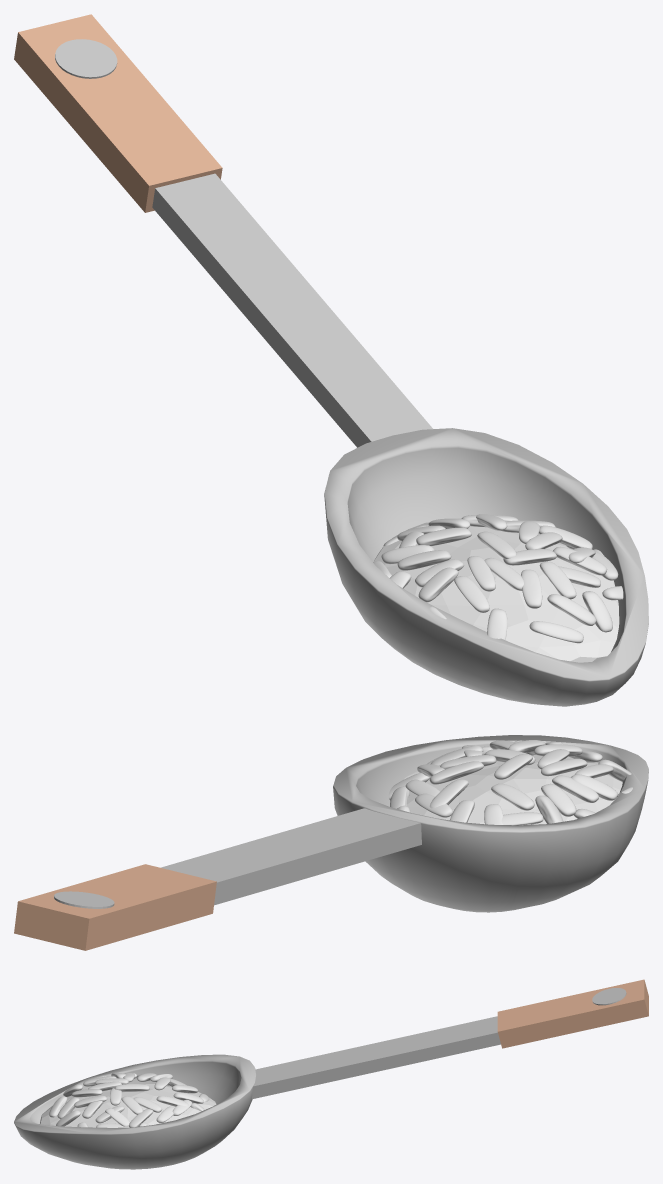
File: coconutspoon.fbx
3 renders of one model, top to bottom at view 1: azimuth 30°, elevation 25°; view 2: azimuth 150°, elevation 25°; view 3: azimuth 270°, elevation 25°, orthographic. The views are drawn at different scales.
Visible parts, largest first — view 1: Sphere.074, Cube.063, Cube.064, Sphere.071, Icosphere.002; view 2: Sphere.074, Cube.063, Sphere.071, Cube.064, Icosphere.002; view 3: Sphere.074, Cube.063, Cube.064, Sphere.071, Icosphere.002.
Boxes of the visible parts, left/top/right/bottom form: Sphere.074: left=324, top=428, right=648, bottom=706; Cube.063: left=55, top=39, right=432, bottom=447; Cube.064: left=14, top=14, right=222, bottom=212; Sphere.071: left=373, top=514, right=623, bottom=643; Icosphere.002: left=373, top=522, right=619, bottom=662; Sphere.074: left=333, top=735, right=648, bottom=912; Cube.063: left=54, top=808, right=421, bottom=908; Sphere.071: left=388, top=740, right=632, bottom=825; Cube.064: left=14, top=864, right=216, bottom=950; Icosphere.002: left=407, top=755, right=622, bottom=824; Sphere.074: left=14, top=1054, right=256, bottom=1169; Cube.063: left=252, top=988, right=626, bottom=1099; Cube.064: left=497, top=979, right=648, bottom=1048; Sphere.071: left=49, top=1072, right=209, bottom=1143; Icosphere.002: left=40, top=1084, right=216, bottom=1127.
Size of the model in its own units: 43.91 by 51.16 by 170.
